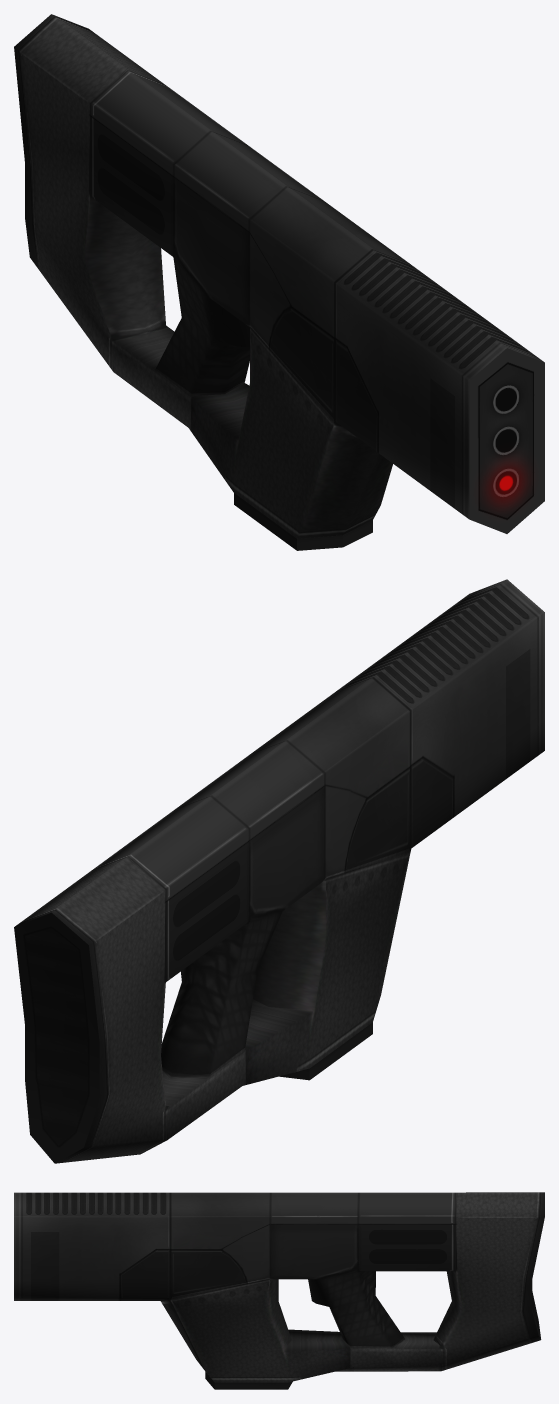
The model's file is AssaultRiflexx.fbx.
3 views of the same model, one above another, from view 1: azimuth 30°, elevation 25°; view 2: azimuth 150°, elevation 25°; view 3: azimuth 270°, elevation 25° (orthographic). The views are drawn at different scales.
Parts seen in each view (by area): view 1: AssaultRifle, Magazine; view 2: AssaultRifle, Magazine; view 3: AssaultRifle, Magazine.
Boxes of the visible parts, x1,y1,x2,y2 form: AssaultRifle: (14,14,544,538); Magazine: (234,493,372,550); AssaultRifle: (14,579,544,1163); Magazine: (279,1022,372,1080); AssaultRifle: (14,1192,544,1382); Magazine: (205,1372,292,1389).
Bounding box in the file's own units: 9.26 × 37.18 × 95.97.
Materials: 1 (1 with a texture image).
